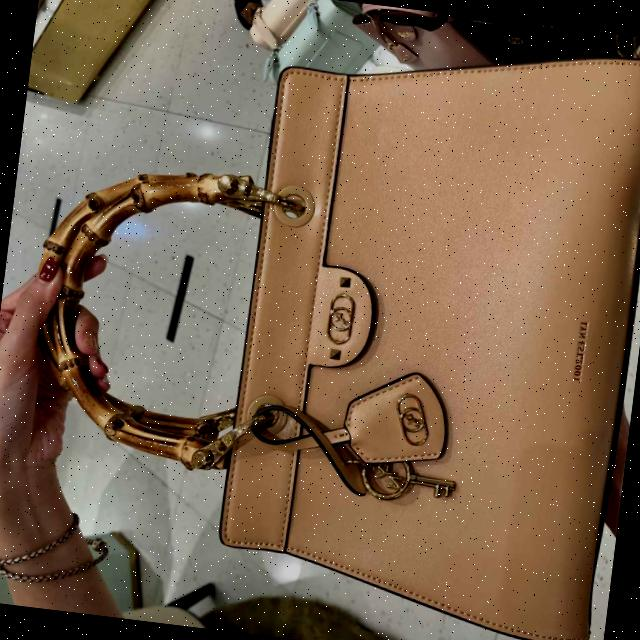Handbag: (183, 0, 640, 640)
